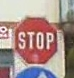stop: (12, 15, 60, 63)
